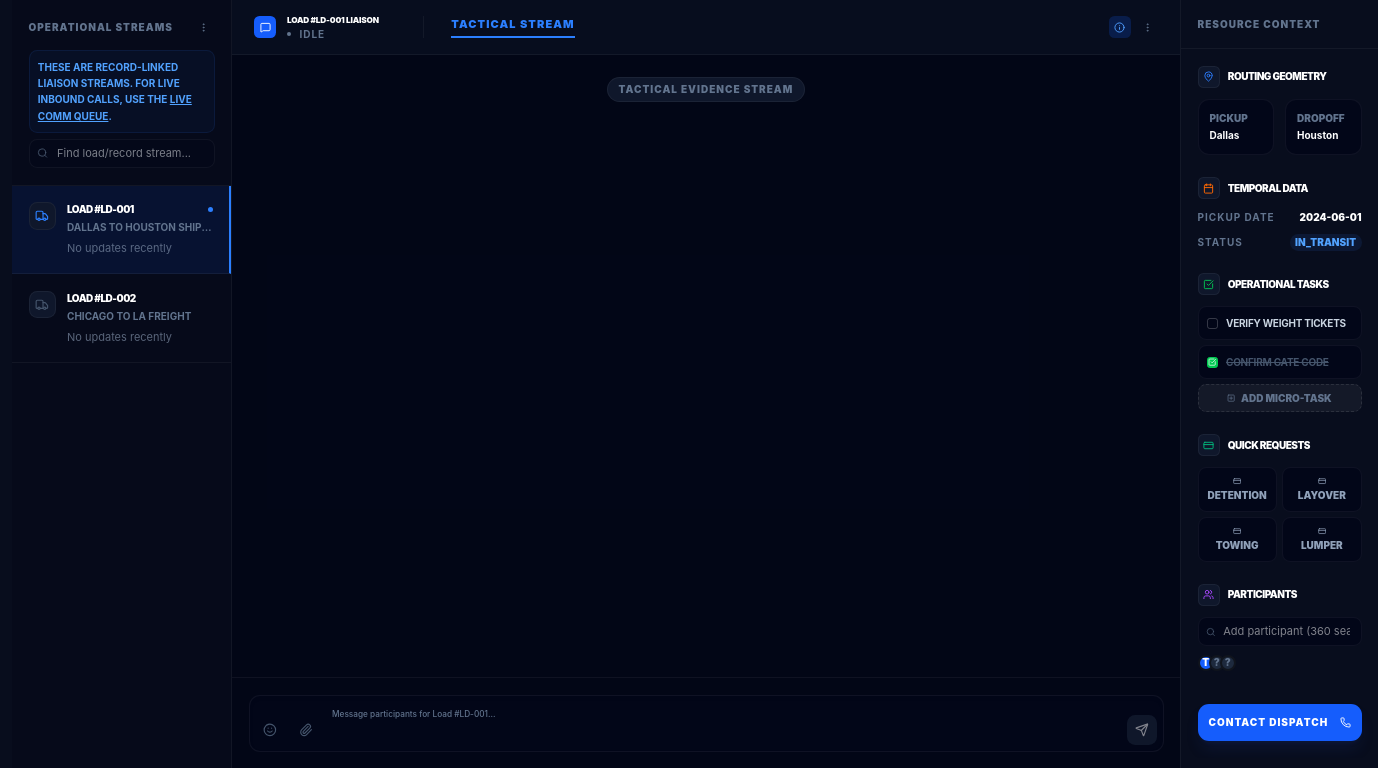
it: OperationalMessaging component › thread creation and context switching › creates a new thread context when a different load is selected and updates chat header
Expected: the heading "Load #LD-001 Liaison" is shown, [287, 15, 379, 26]
Step 1. Click the text "Load #LD-002" → (101, 298), box [67, 291, 136, 306]
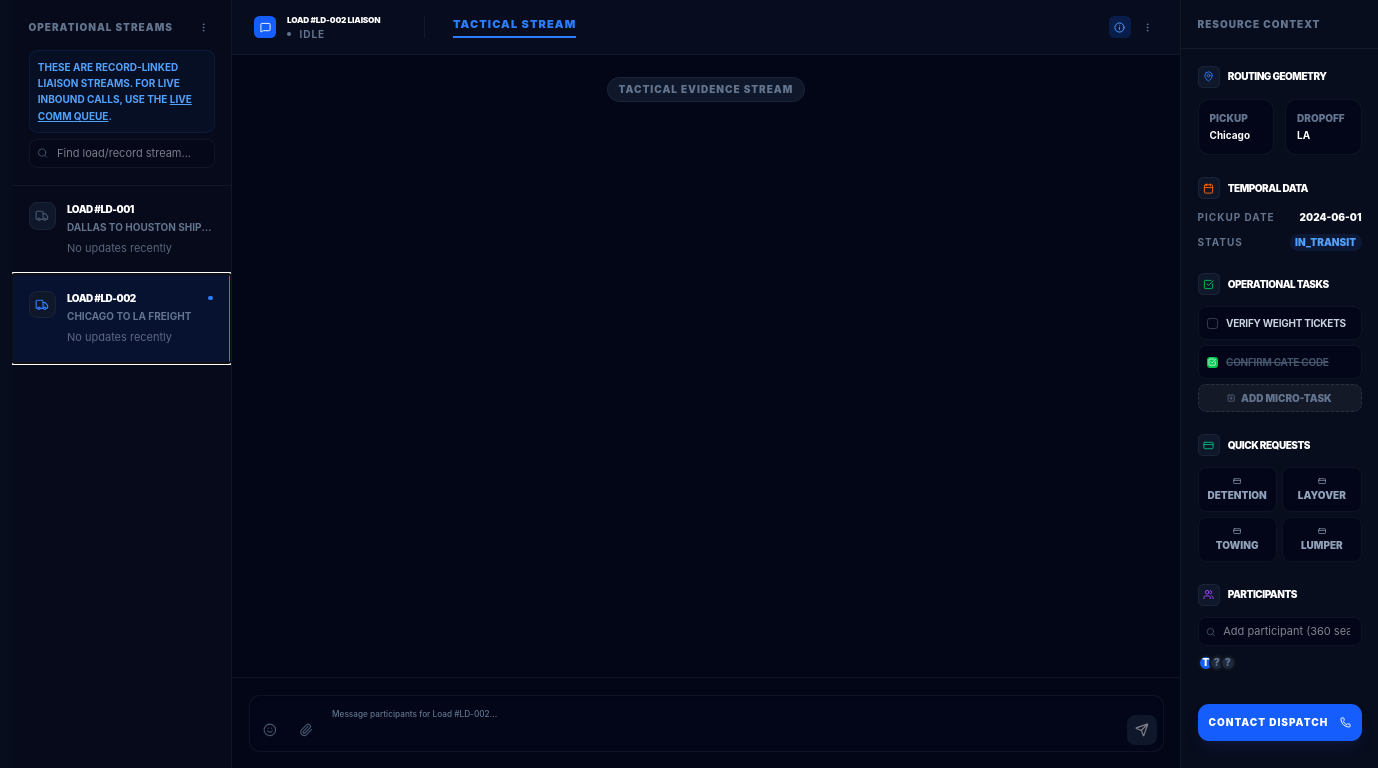
Expected: the text "LA" is shown, [1297, 129, 1310, 141]
Expected: the heading "Load #LD-002 Liaison" is shown, [287, 15, 380, 26]
Expected: the text "Chicago" is shown, [1210, 129, 1250, 141]
